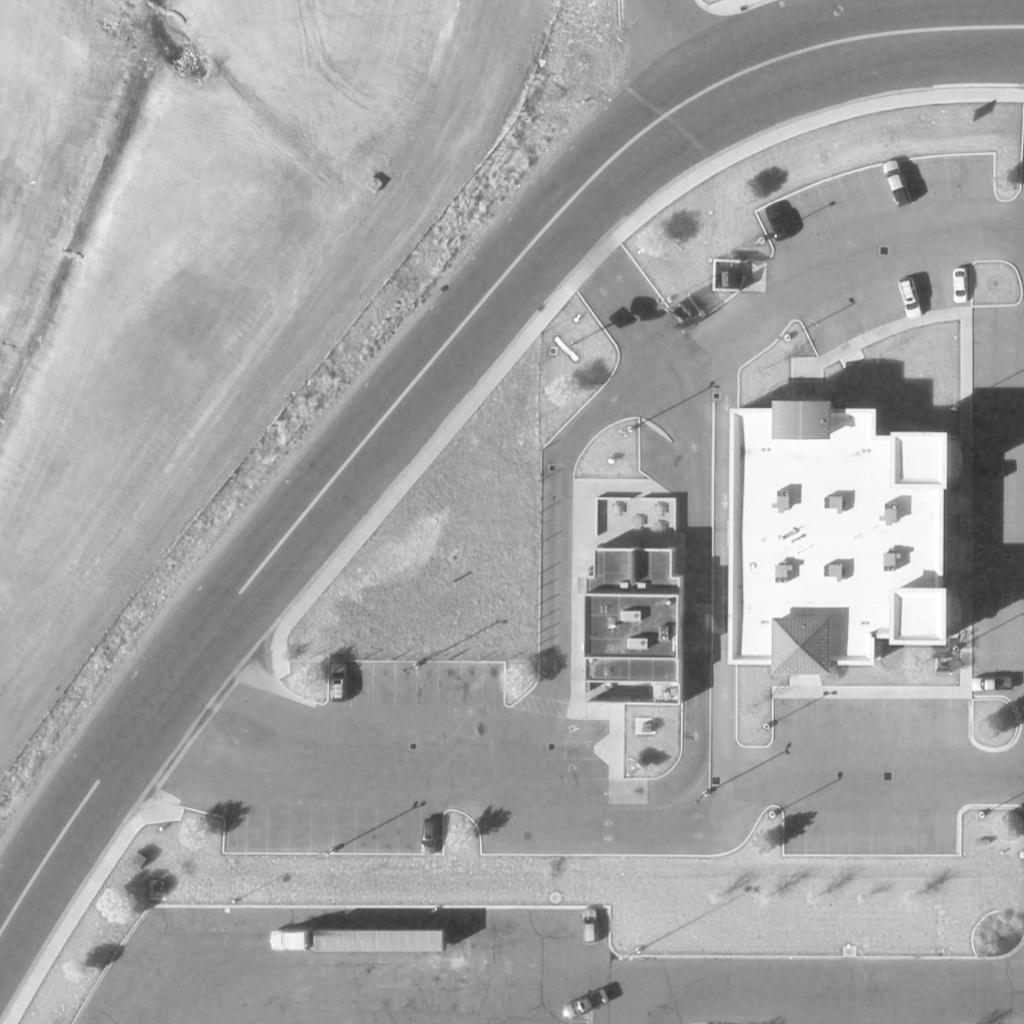vehicle: (267, 930, 447, 954), (882, 159, 914, 207), (564, 988, 610, 1018), (897, 279, 925, 321), (331, 659, 349, 703), (582, 909, 602, 945), (971, 677, 1013, 693), (421, 819, 439, 853), (952, 270, 970, 304)
